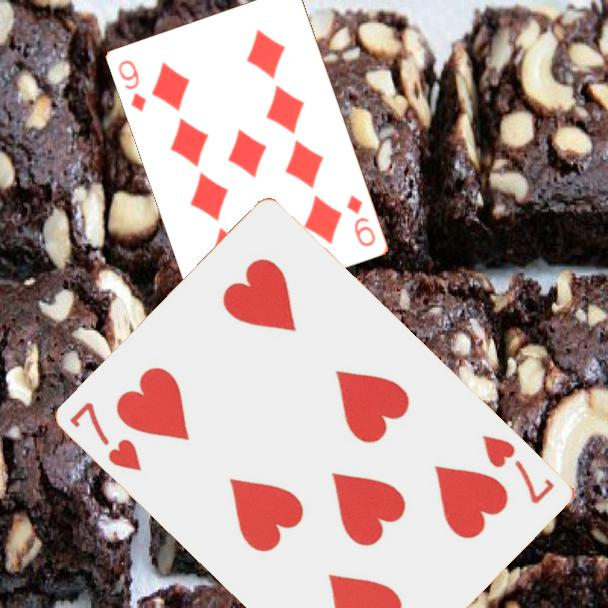d09: (343, 192, 379, 250), (115, 57, 150, 115)
h07: (66, 398, 146, 475), (479, 431, 559, 507)
